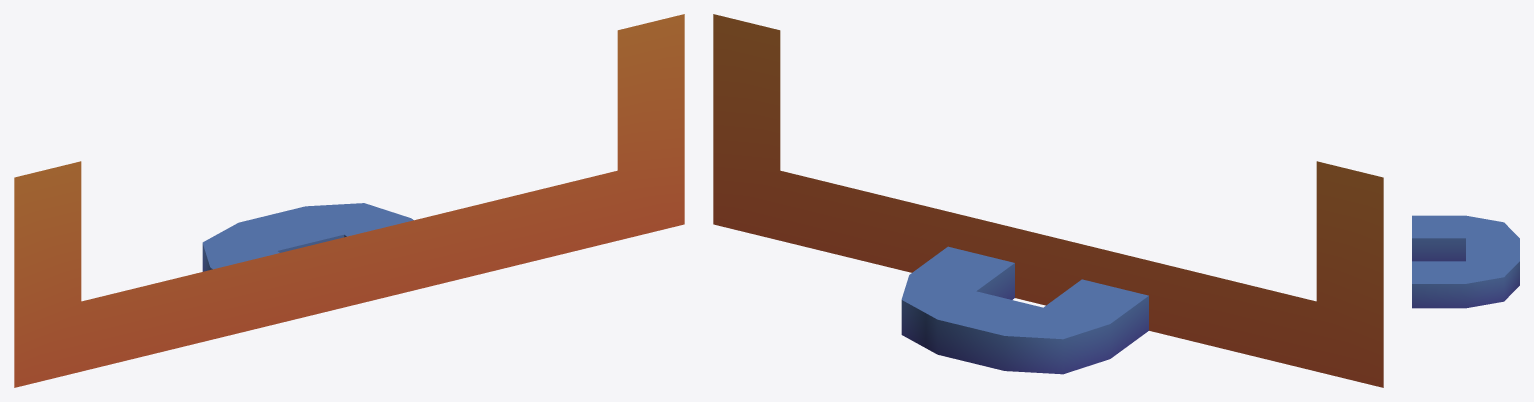
The model's file is track-narrow-cap-front.glb.
3 views of the same model, side by side, from view 1: azimuth 30°, elevation 25°; view 2: azimuth 150°, elevation 25°; view 3: azimuth 270°, elevation 25° (orthographic). The views are drawn at different scales.
Parts seen in each view (by area): view 1: track-narrow-cap-front; view 2: track-narrow-cap-front; view 3: track-narrow-cap-front.
Boxes of the visible parts, left/top/right/bottom form: track-narrow-cap-front: left=14, top=14, right=684, bottom=387; track-narrow-cap-front: left=713, top=14, right=1383, bottom=387; track-narrow-cap-front: left=1412, top=215, right=1519, bottom=308.
Size of the model in its own units: 1 by 0.3 by 0.2.
